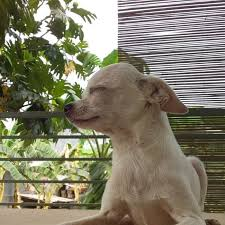Bulldog: (38, 56, 209, 225)
